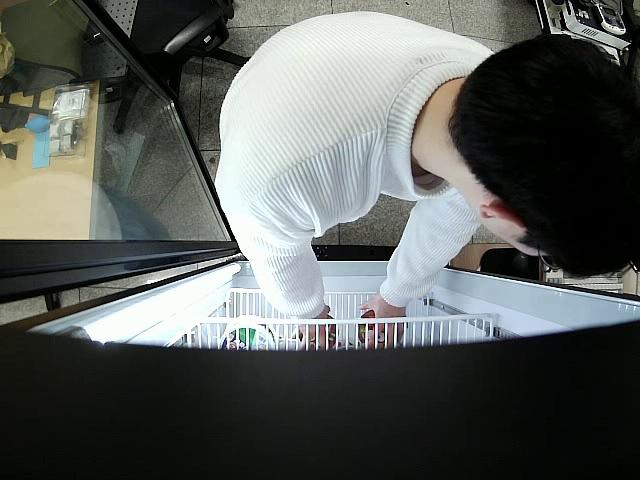00_hand: (358, 295, 406, 349), (295, 305, 332, 353)
06_nuguri_S: (354, 309, 391, 349), (299, 317, 339, 349)
